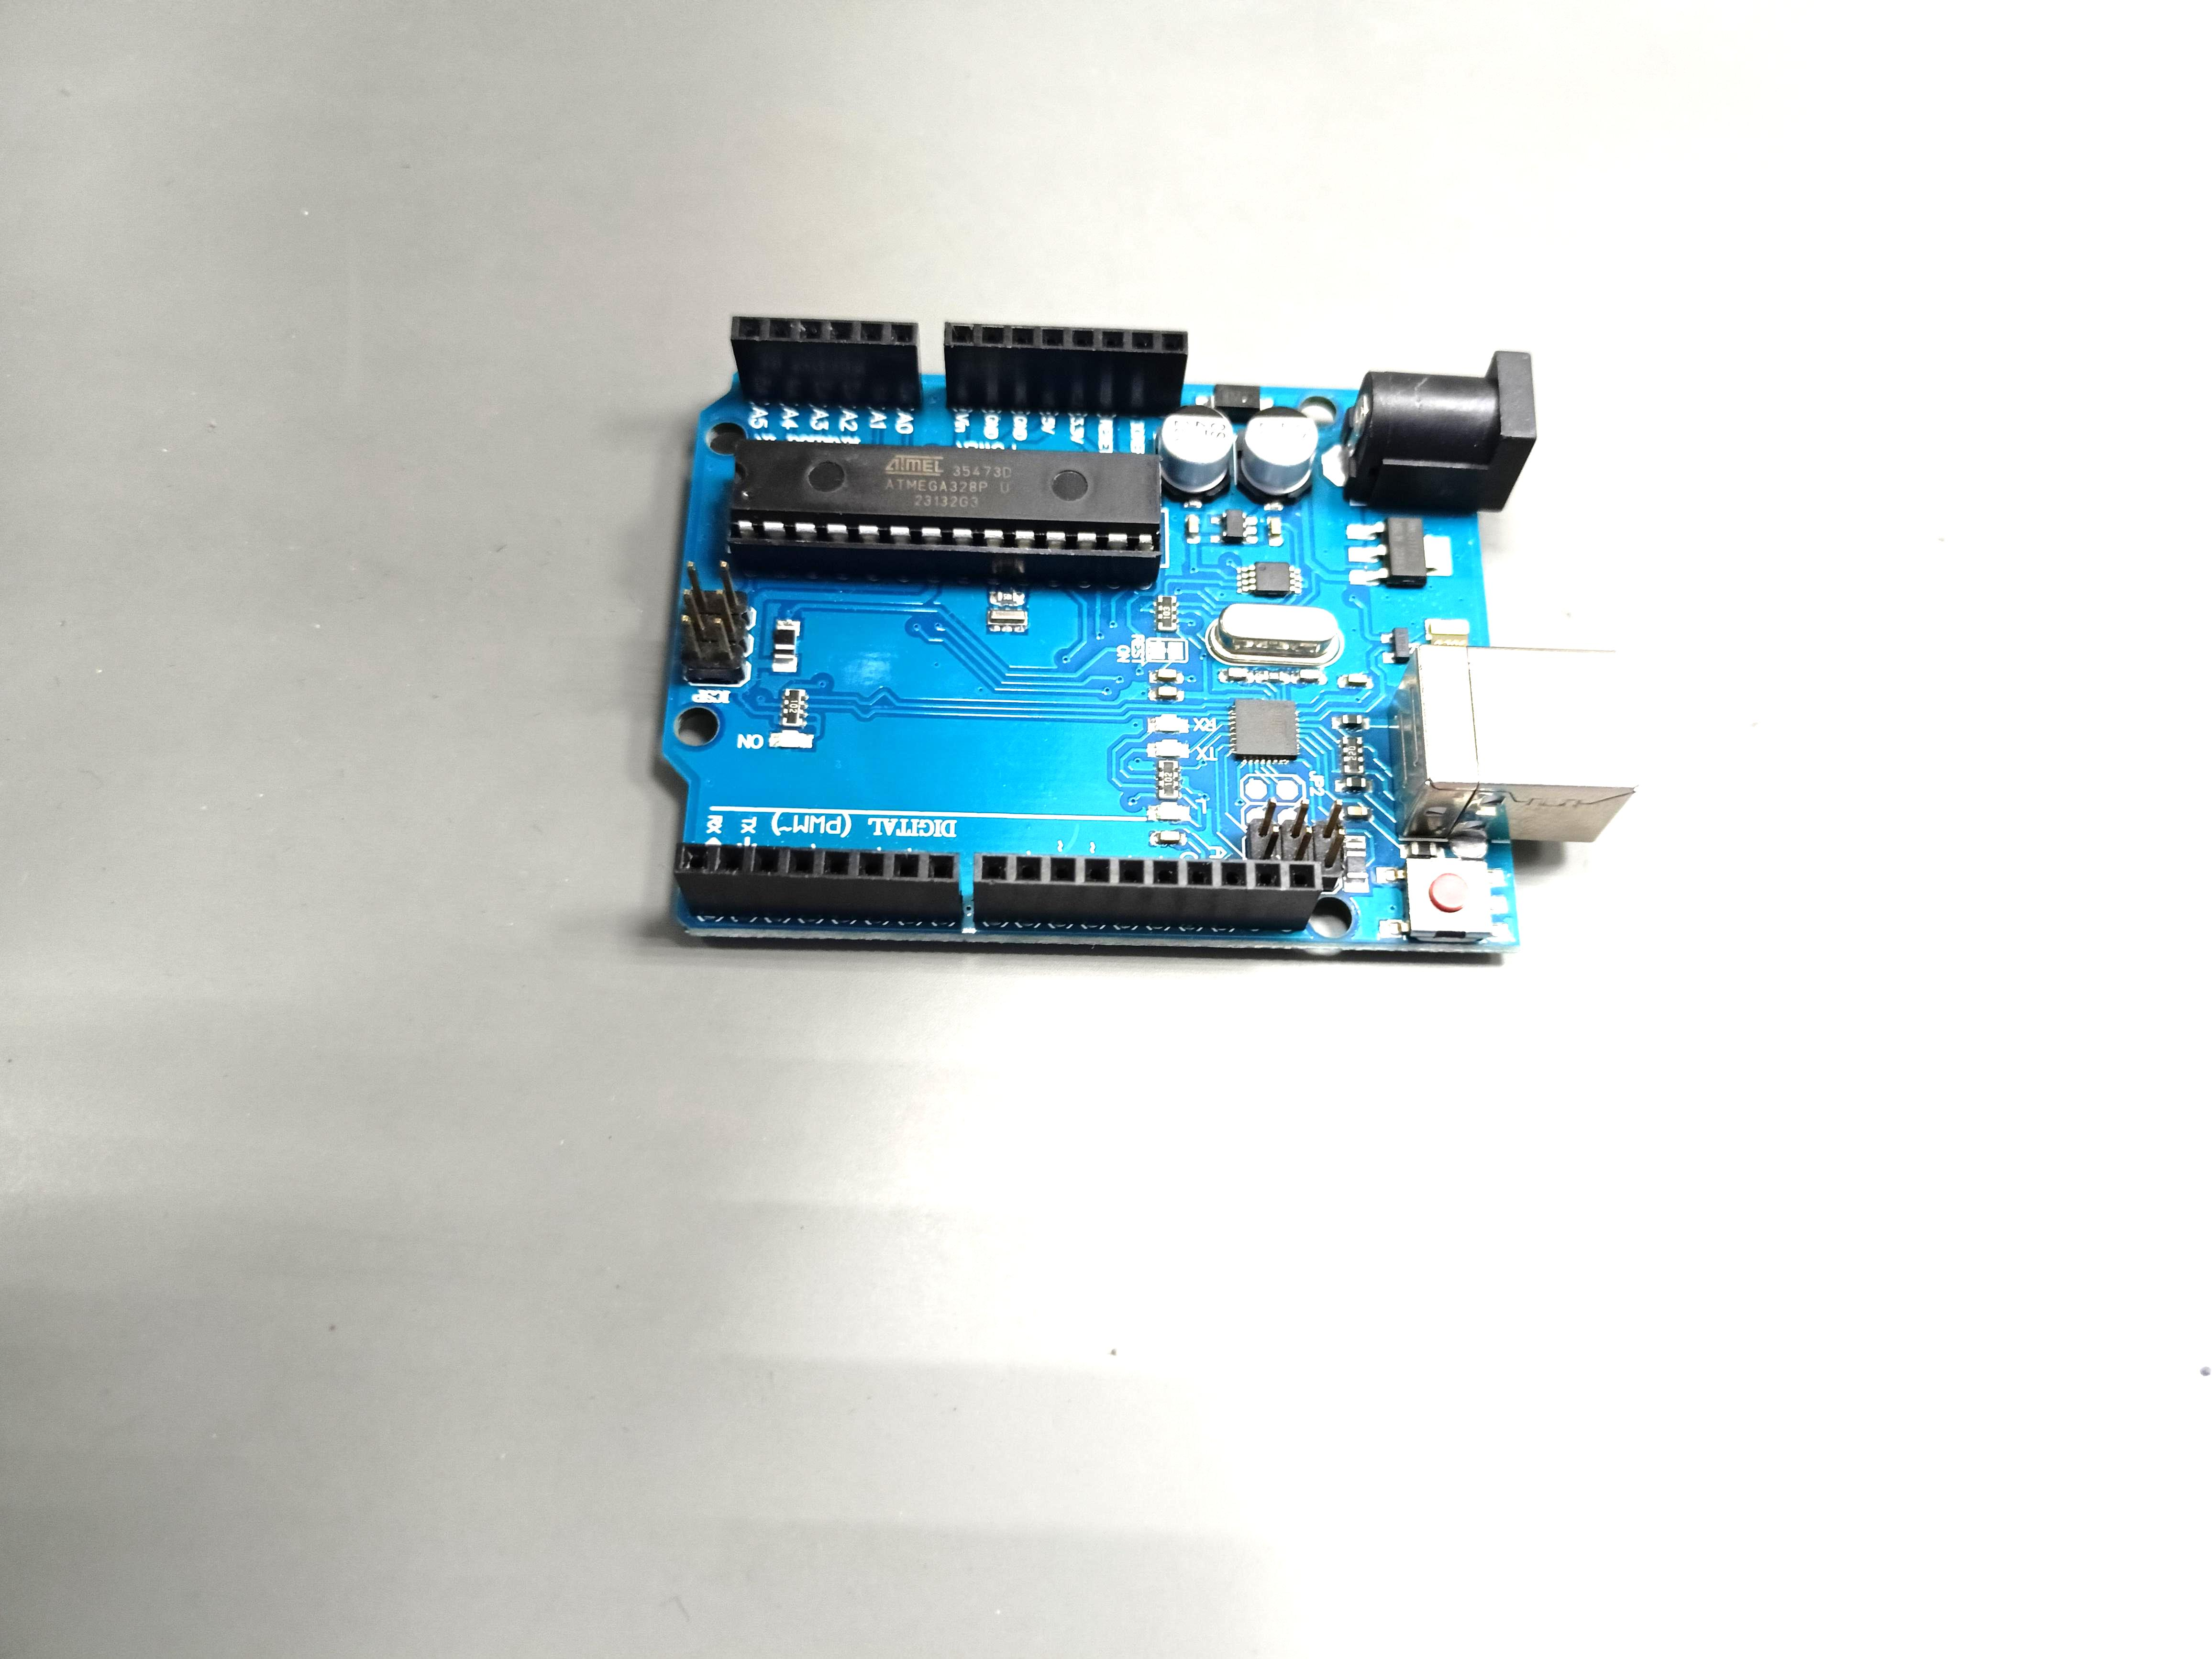ATmega328 chip: (726, 439, 1163, 584)
Arduino board: (662, 317, 1639, 953)
USB: (1388, 643, 1639, 842)
capacitor: (1235, 406, 1318, 505), (1157, 404, 1233, 504)
pins: (974, 852, 1324, 931), (672, 842, 961, 922), (944, 322, 1188, 415), (730, 315, 923, 410)
resistor: (782, 690, 806, 727), (1341, 737, 1364, 775), (1158, 762, 1177, 800), (1157, 596, 1176, 631)
